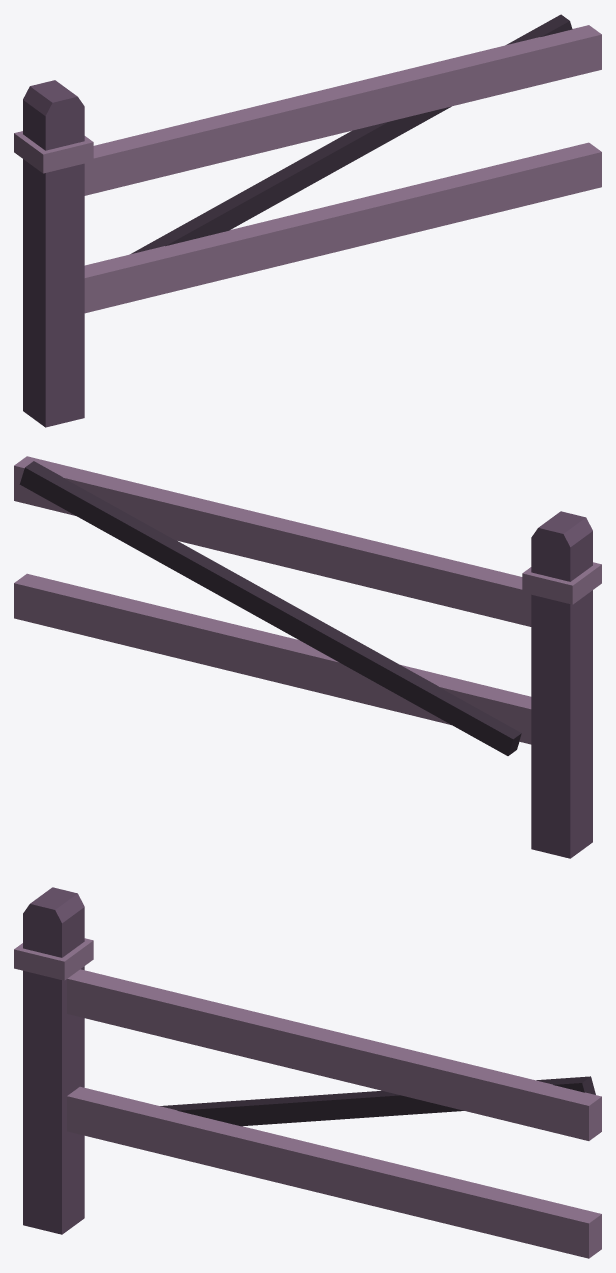
The model's file is TW_WOOD_RAIL_2M_B_LOD0.glb.
3 renders of one model, top to bottom at view 1: azimuth 30°, elevation 25°; view 2: azimuth 150°, elevation 25°; view 3: azimuth 330°, elevation 25°, orthographic.
Visible parts, largest first — view 1: TW_WOOD_RAIL_2M_B_LOD0; view 2: TW_WOOD_RAIL_2M_B_LOD0; view 3: TW_WOOD_RAIL_2M_B_LOD0.
Part boxes in pixels (bbox=[...]): TW_WOOD_RAIL_2M_B_LOD0: bbox=[14, 14, 601, 427]; TW_WOOD_RAIL_2M_B_LOD0: bbox=[14, 456, 601, 858]; TW_WOOD_RAIL_2M_B_LOD0: bbox=[14, 887, 601, 1258].
Bounding box in the file's own units: 2.02 × 1.1 × 0.1825.
Materials: 1 (1 with a texture image).
